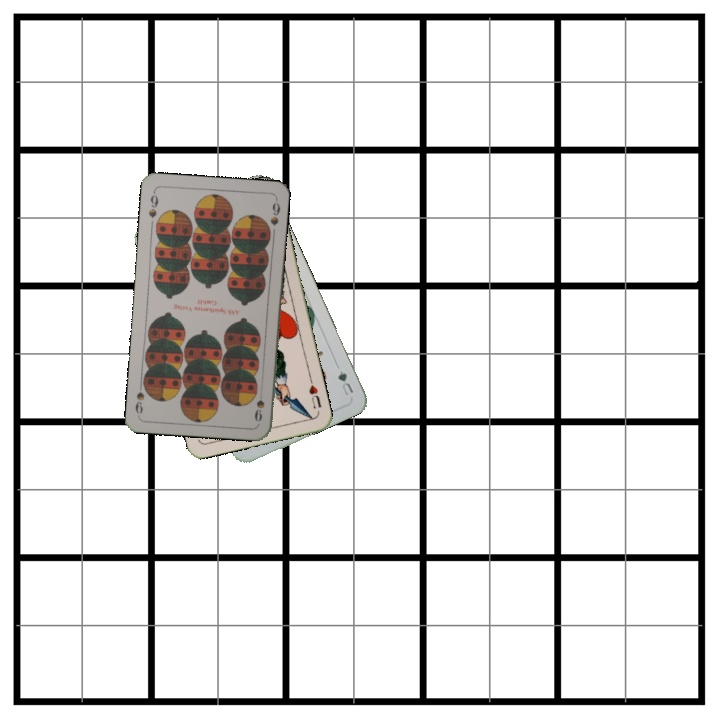GU: (334, 367, 356, 398)
HU: (305, 375, 324, 411)
S9: (145, 188, 161, 220), (251, 396, 267, 424)
